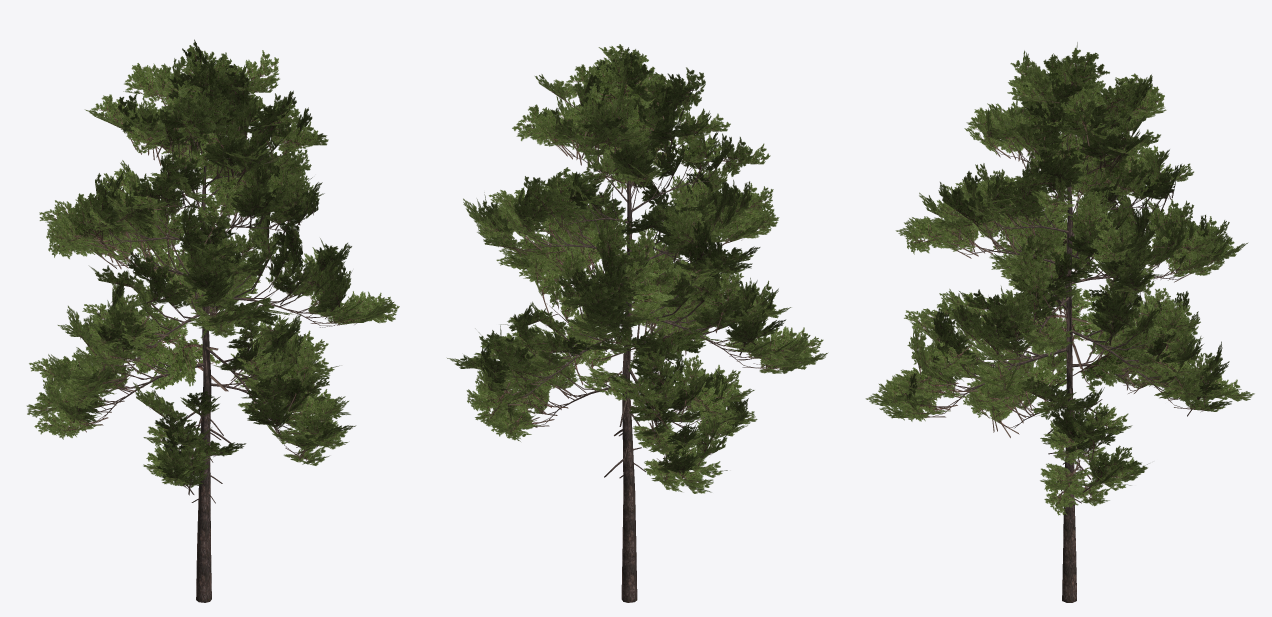
The model's file is pine_tree.glb.
The picture shows the model from 3 angles, left to right: view 1: azimuth 30°, elevation 25°; view 2: azimuth 150°, elevation 25°; view 3: azimuth 270°, elevation 25°; orthographic projection.
Visible parts, largest first — view 1: Object_7; view 2: Object_7; view 3: Object_7.
Part boxes in pixels (x1,y1,x2,y2): Object_7: (27,39,399,602); Object_7: (447,44,827,602); Object_7: (865,42,1254,602).
Size of the model in its own units: 11.33 by 17.65 by 11.08.
Materials: 2 (2 with a texture image).
